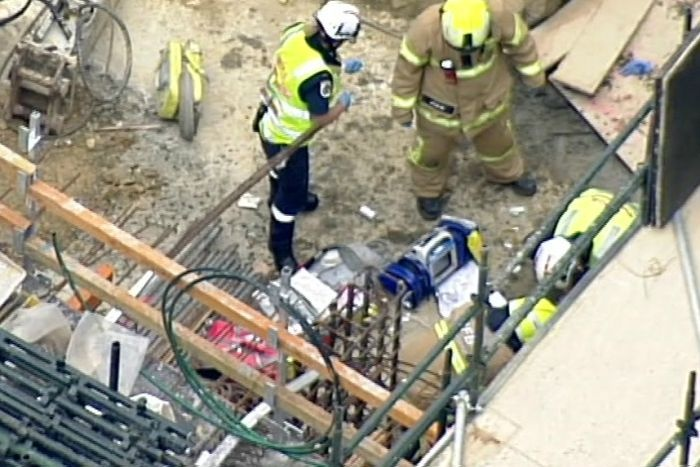white: (531, 231, 581, 293), (313, 1, 360, 52)
yellow: (439, 2, 490, 53)
